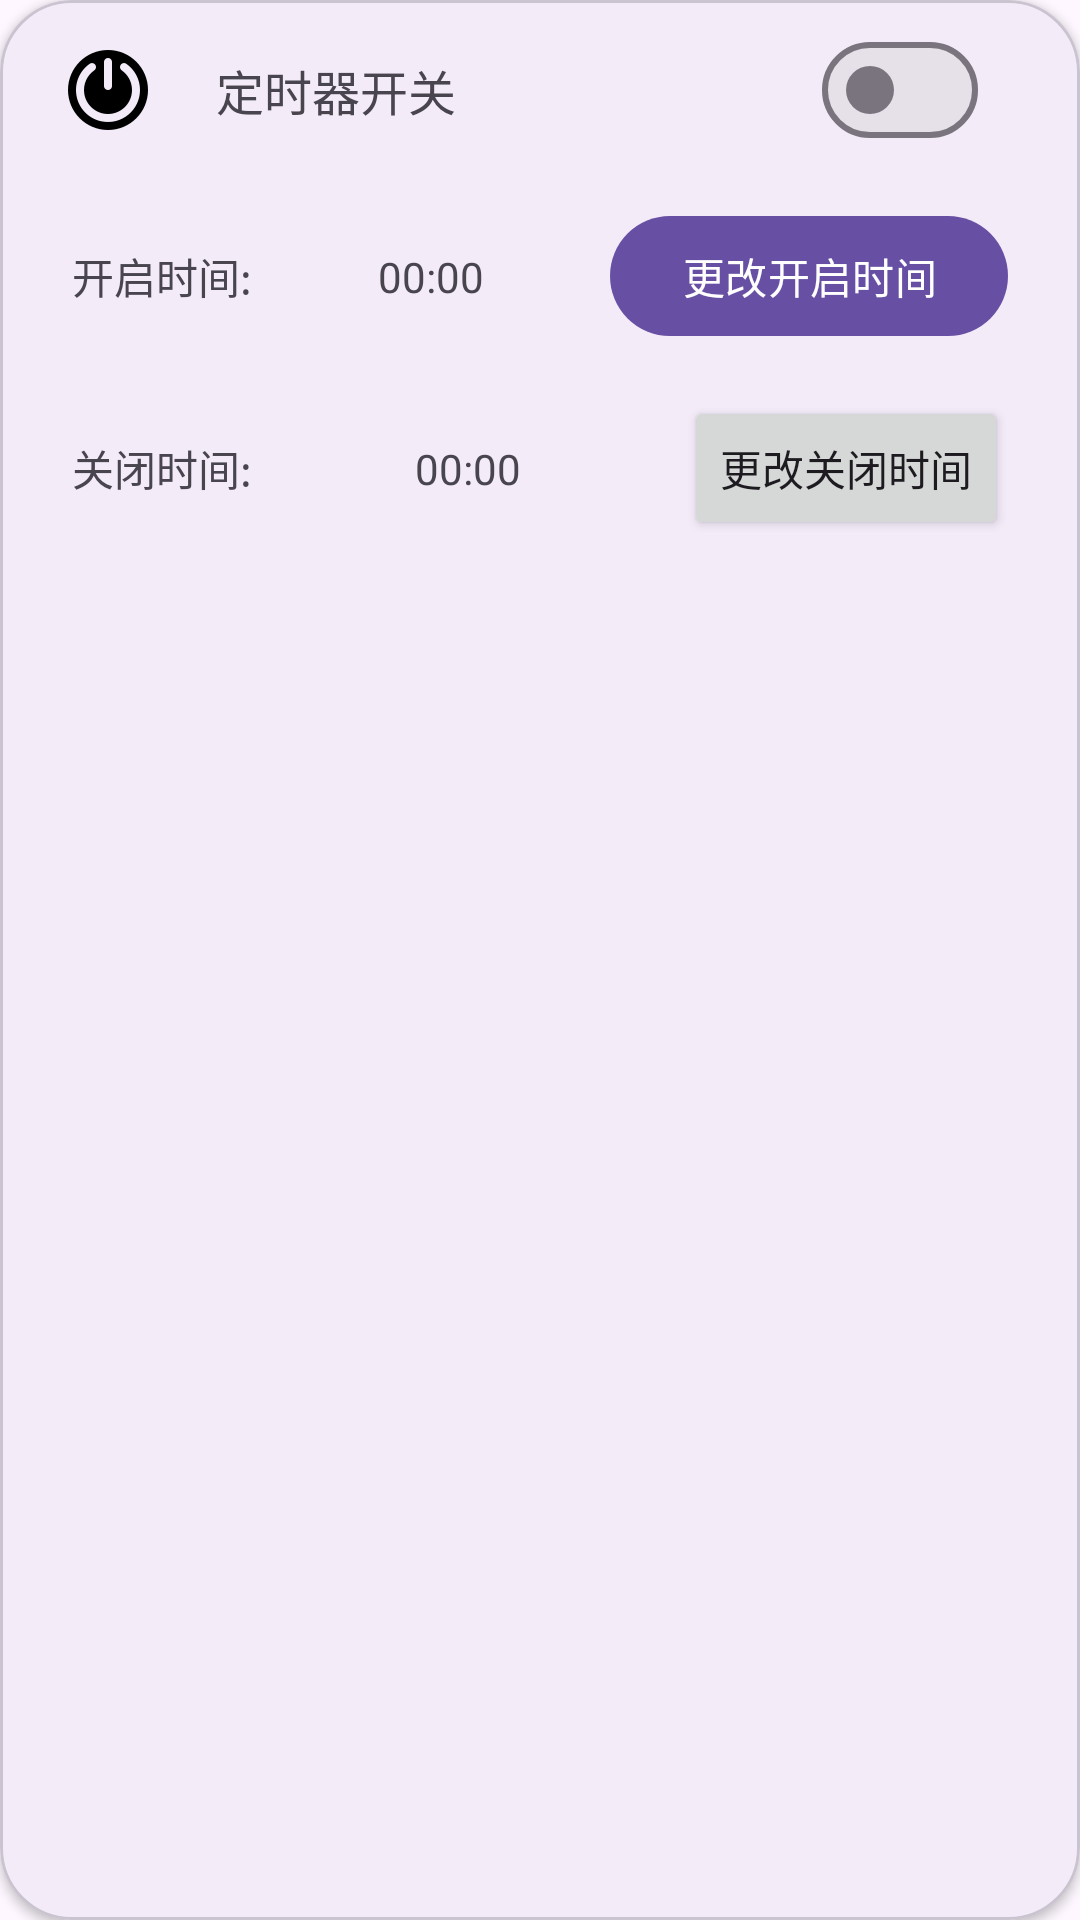

Icon bounding boxes for this 1080w x 1920h phone screenshot, format (x1, y1, x2, y2):
power: (68, 50, 148, 130)
